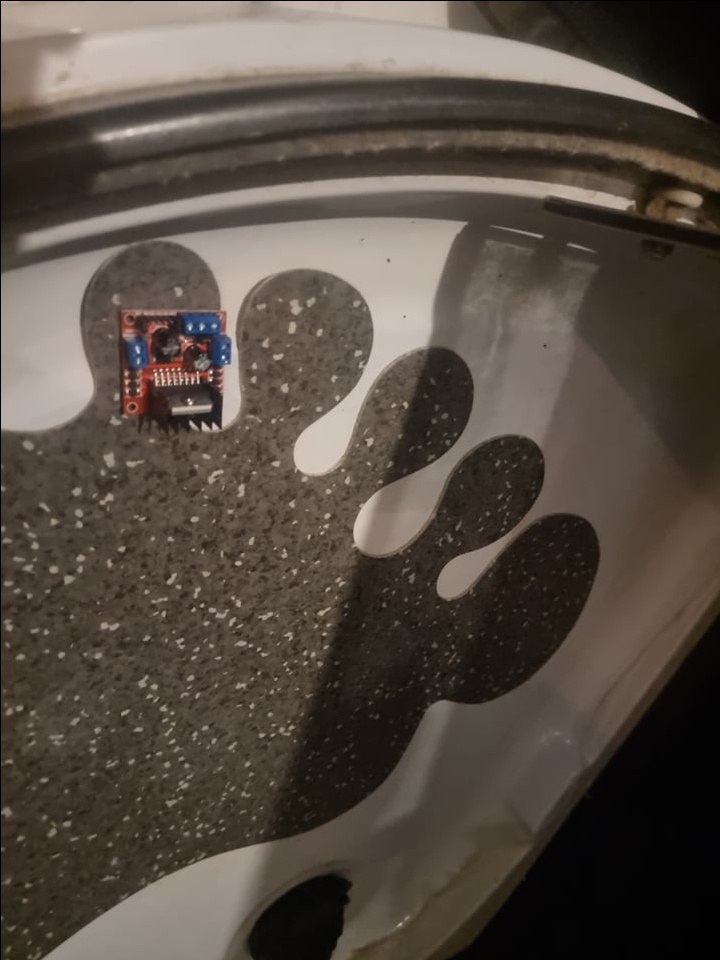MOTOR: (114, 308, 234, 428)
